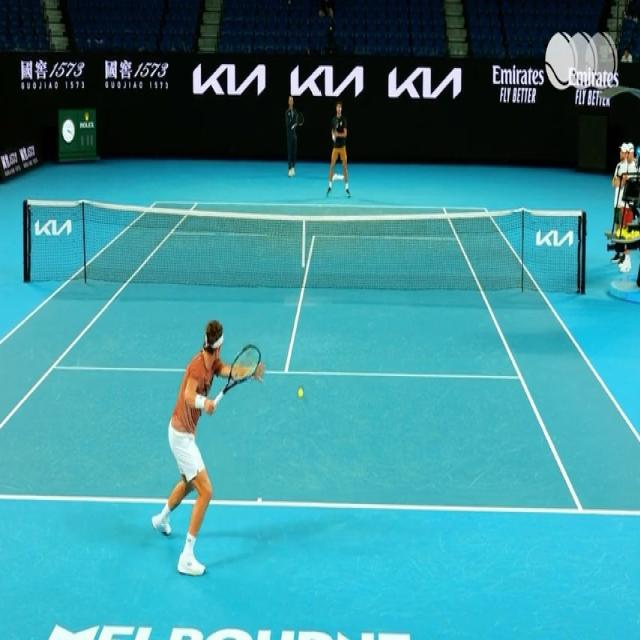forehand-ready: (152, 280, 268, 573)
